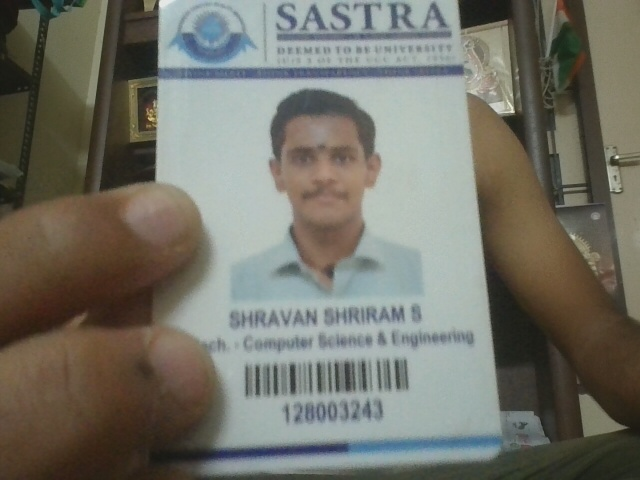fake: (269, 115, 377, 223)
